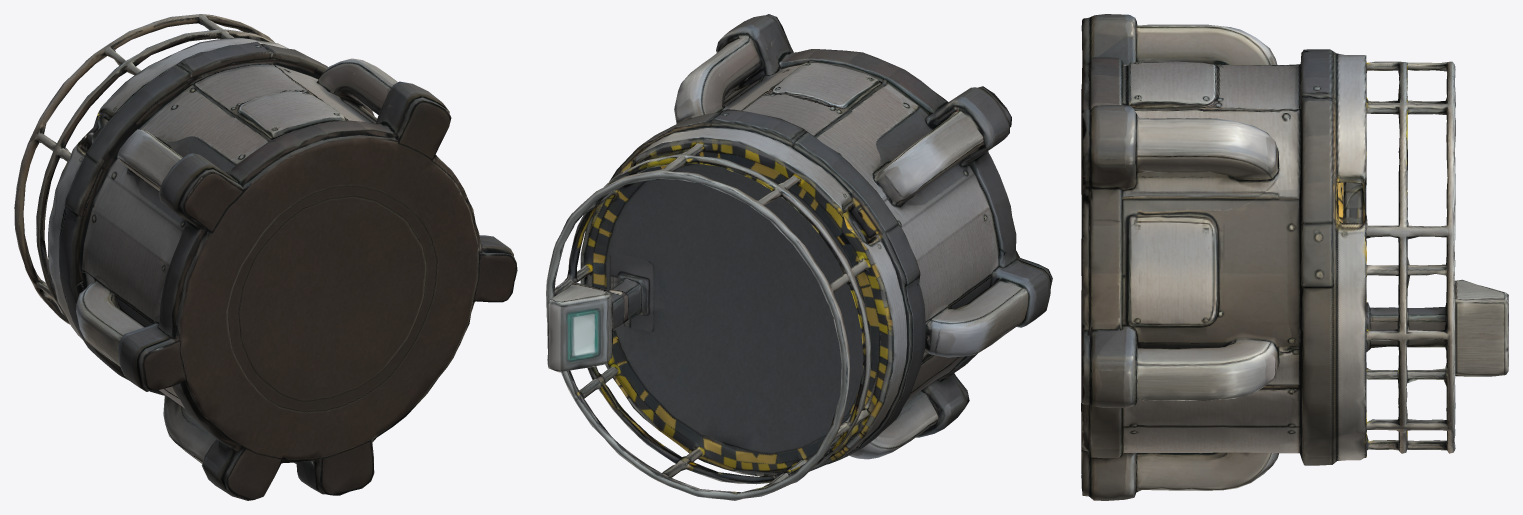
The model's file is ExitElevator.fbx.
The picture shows the model from 3 angles, left to right: view 1: azimuth 30°, elevation 25°; view 2: azimuth 150°, elevation 25°; view 3: azimuth 270°, elevation 25°; orthographic projection. The views are drawn at different scales.
Visible parts, largest first — view 1: texture_mapping; view 2: texture_mapping; view 3: texture_mapping.
Part boxes in pixels (<box>): texture_mapping: <box>14,14,517,500</box>; texture_mapping: <box>546,14,1052,500</box>; texture_mapping: <box>1081,14,1508,500</box>.
Bounding box in the file's own units: 6.01 × 5.74 × 5.23.
Materials: 1 (1 with a texture image).
